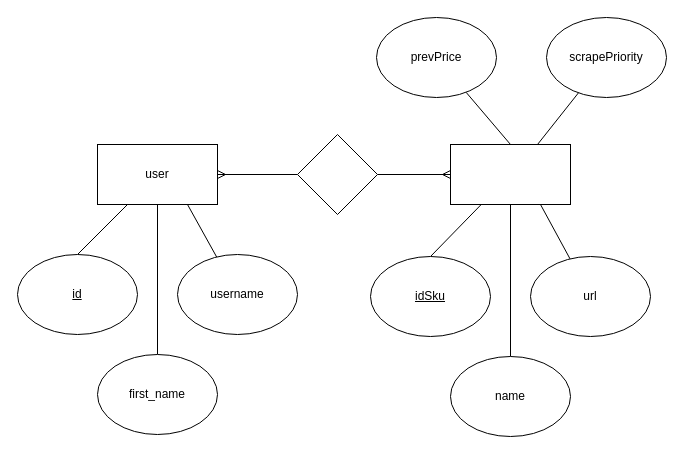
This 684x454 diagram has some shape labels left out. The shapes that lost their labels are listed below. From the top down, each one's centre as x and y in pixels, then its label:
At (337,174): "track price".
At (510,174): "product".
